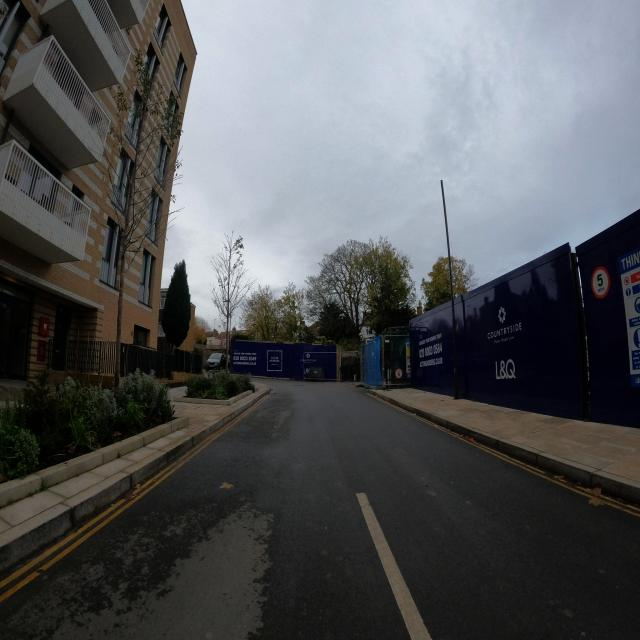car: (204, 352, 228, 373)
